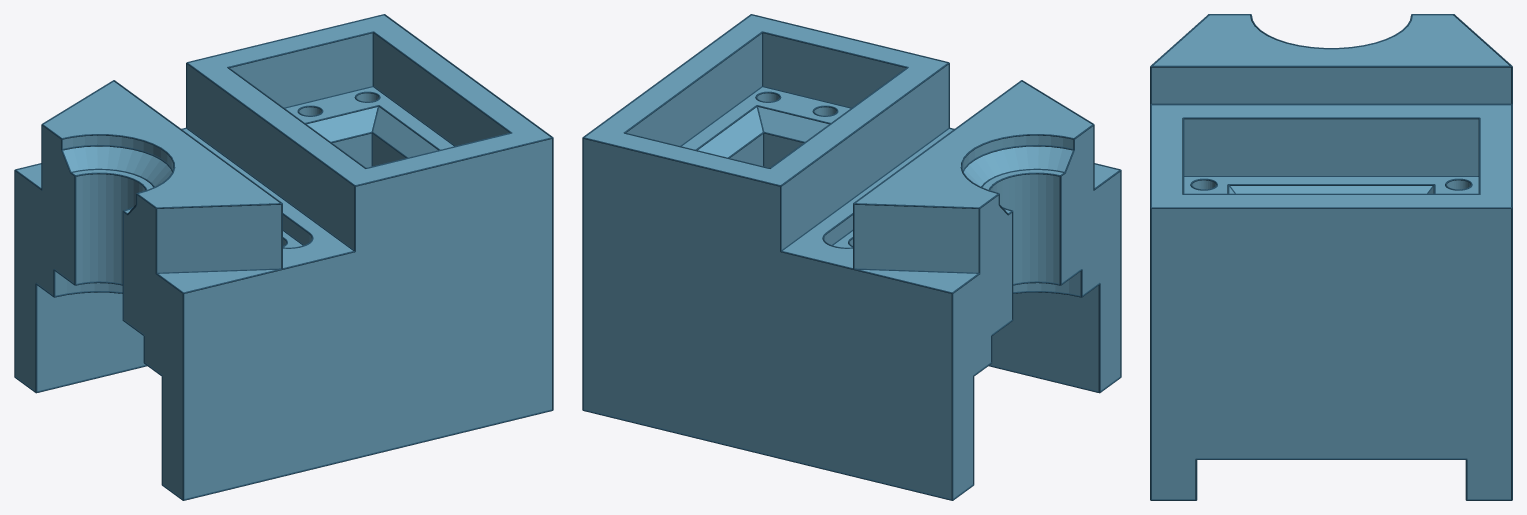
The model's file is section_bb_cad_v2.glb.
3 views of the same model, side by side, from view 1: azimuth 30°, elevation 25°; view 2: azimuth 150°, elevation 25°; view 3: azimuth 270°, elevation 25° (orthographic). The views are drawn at different scales.
Visible parts, largest first — view 1: section_bb_blue, navy_edges_crisp; view 2: section_bb_blue, navy_edges_crisp; view 3: section_bb_blue, navy_edges_crisp.
Boxes of the visible parts, box(x1,y1,x2,y2) form: section_bb_blue: box(15, 15, 551, 498); navy_edges_crisp: box(14, 14, 553, 500); section_bb_blue: box(584, 15, 1120, 498); navy_edges_crisp: box(582, 14, 1121, 500); section_bb_blue: box(1152, 15, 1510, 499); navy_edges_crisp: box(1150, 14, 1512, 500).
Size of the model in its own units: 71.31 by 50.31 by 56.31.
